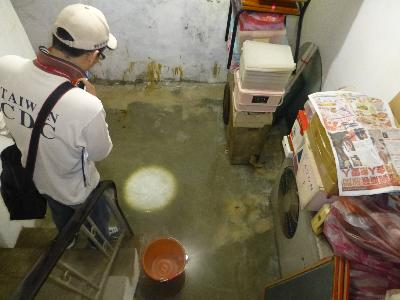box: (238, 40, 294, 90), (233, 70, 284, 112)
bucket: (140, 236, 187, 284)
plastic_bag: (322, 197, 400, 298)
